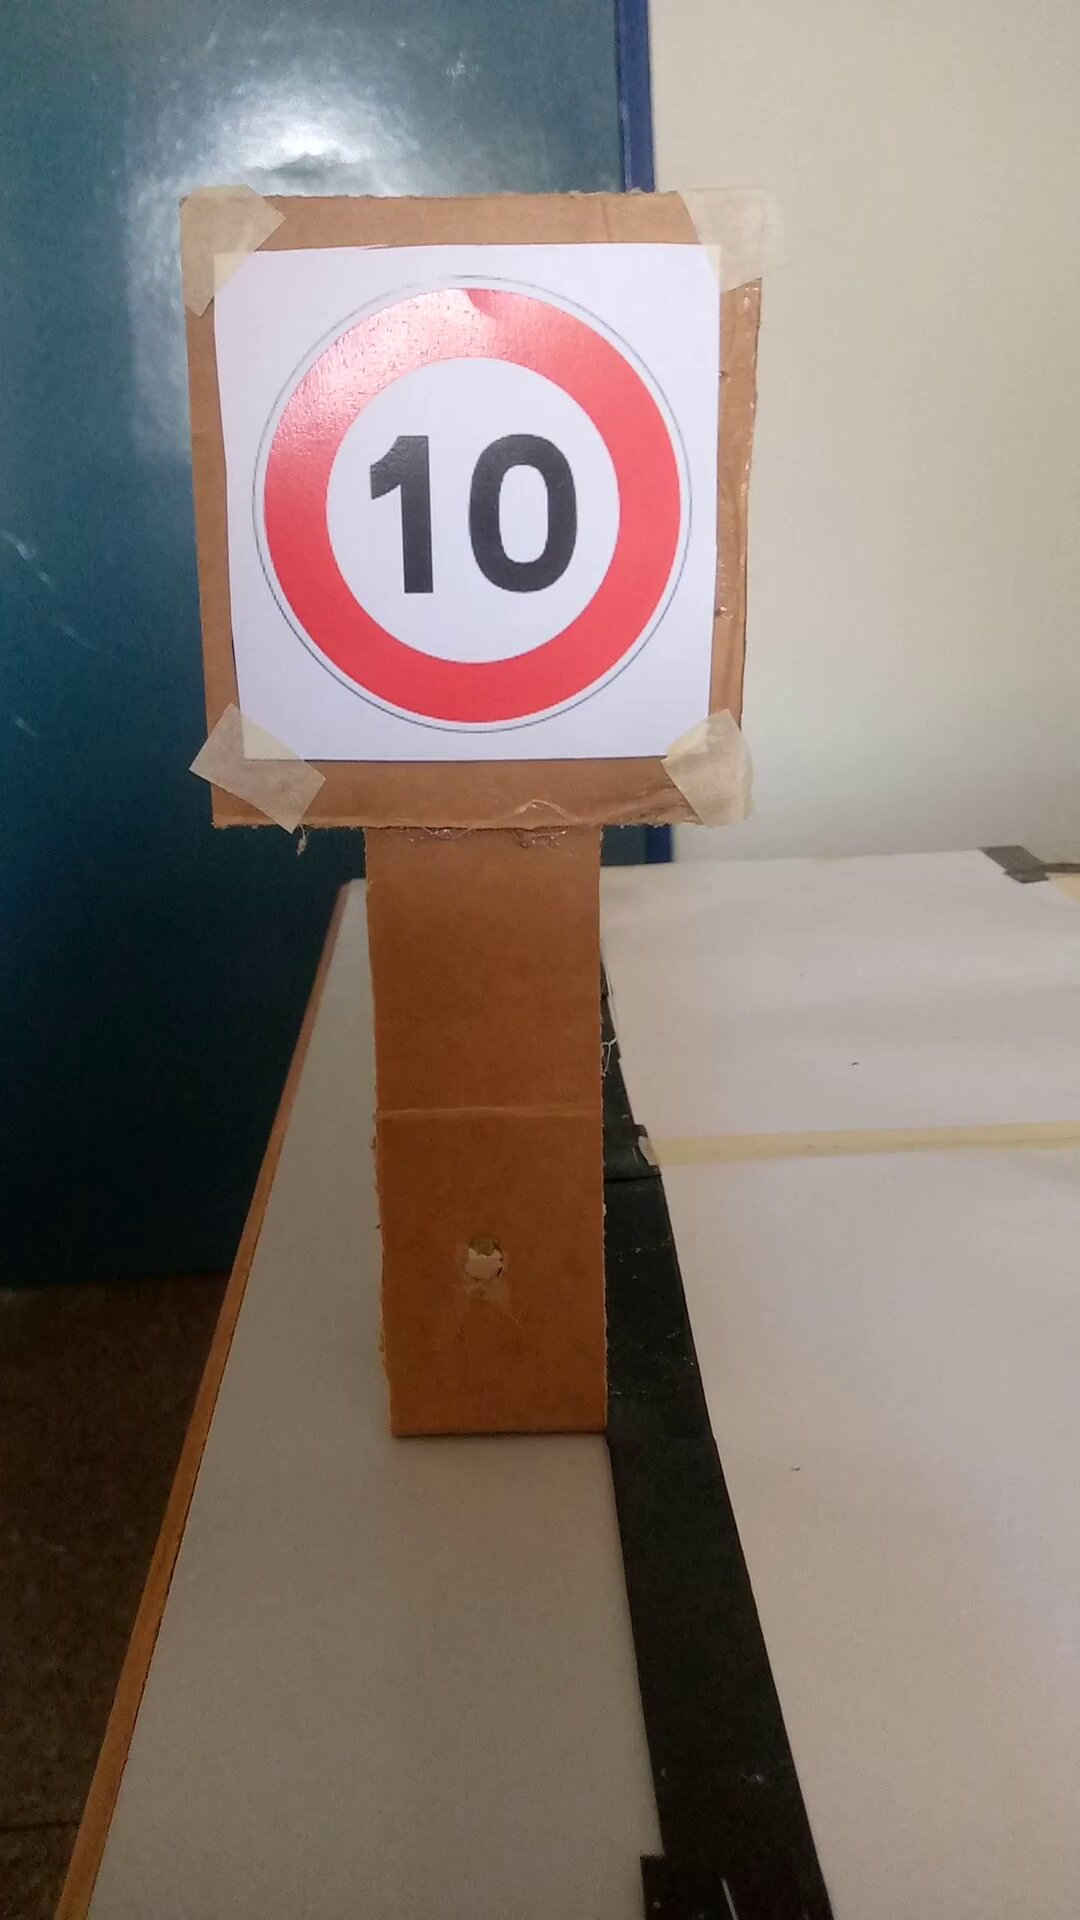panel011: (207, 218, 746, 818)
